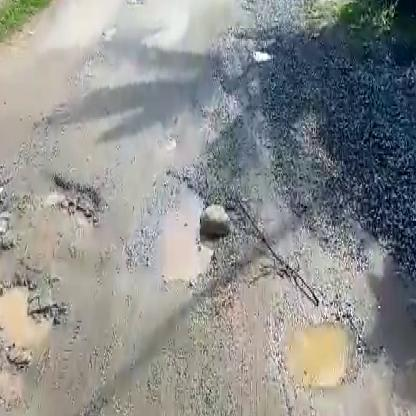pothole: (138, 170, 216, 287), (0, 276, 69, 358), (281, 316, 354, 391), (38, 170, 101, 221)
